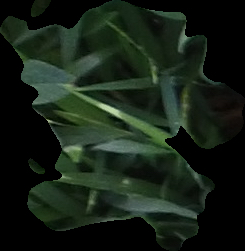grass: (1, 1, 244, 249)
